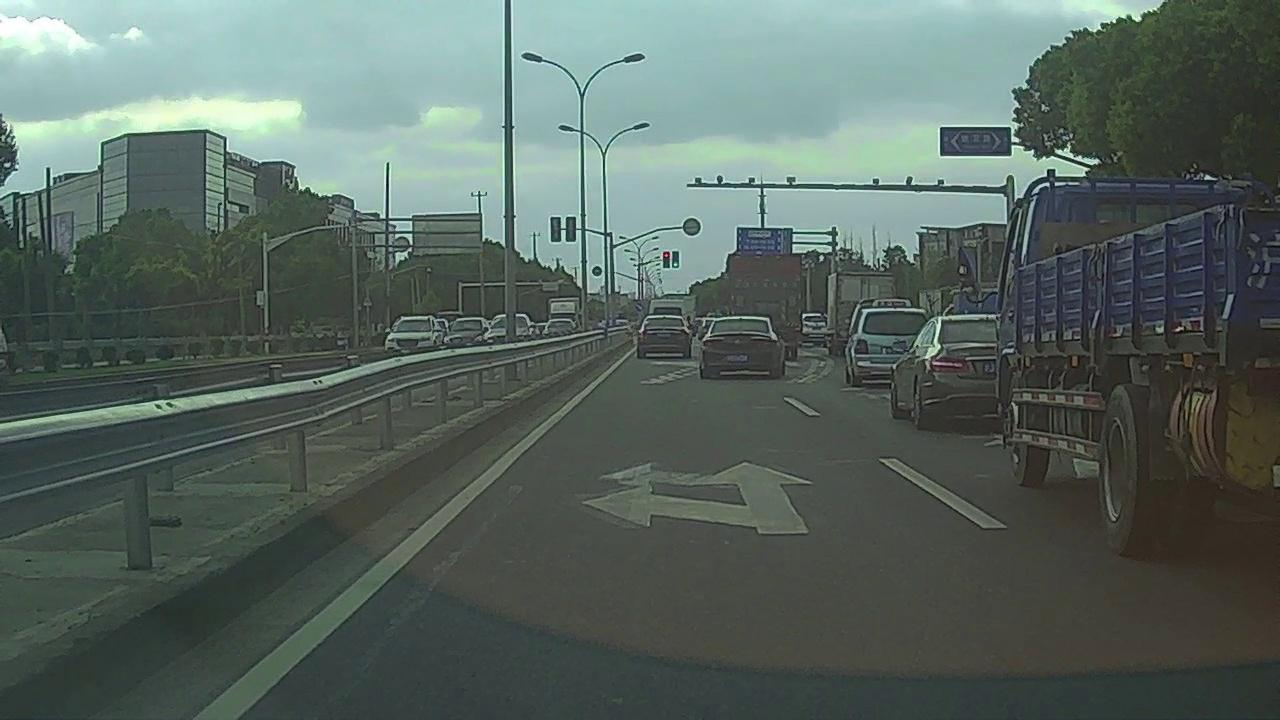traffic_light: (672, 250, 680, 268), (662, 251, 669, 268)
